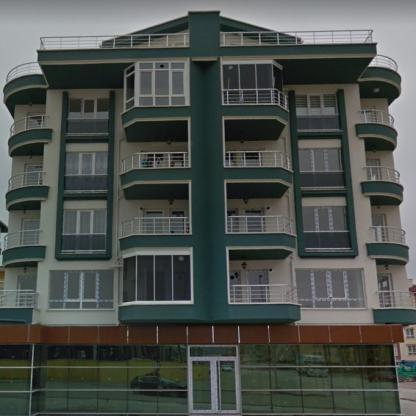door: (188, 358, 239, 414), (246, 270, 270, 302), (376, 273, 395, 308), (22, 220, 38, 244), (244, 210, 262, 230), (24, 164, 41, 185), (373, 214, 386, 240), (171, 209, 184, 232), (367, 160, 380, 180), (28, 113, 43, 129), (18, 276, 35, 290), (244, 151, 259, 166), (362, 107, 376, 122)
window: (122, 254, 192, 305), (124, 62, 186, 110), (222, 60, 283, 104), (295, 270, 365, 308), (48, 270, 113, 308), (302, 206, 348, 232), (66, 151, 107, 175), (63, 209, 104, 233), (300, 148, 342, 171), (69, 98, 108, 119), (296, 94, 336, 114), (188, 346, 237, 358), (144, 210, 164, 234), (231, 270, 240, 301), (228, 209, 238, 232), (406, 328, 413, 338), (408, 344, 414, 354)
